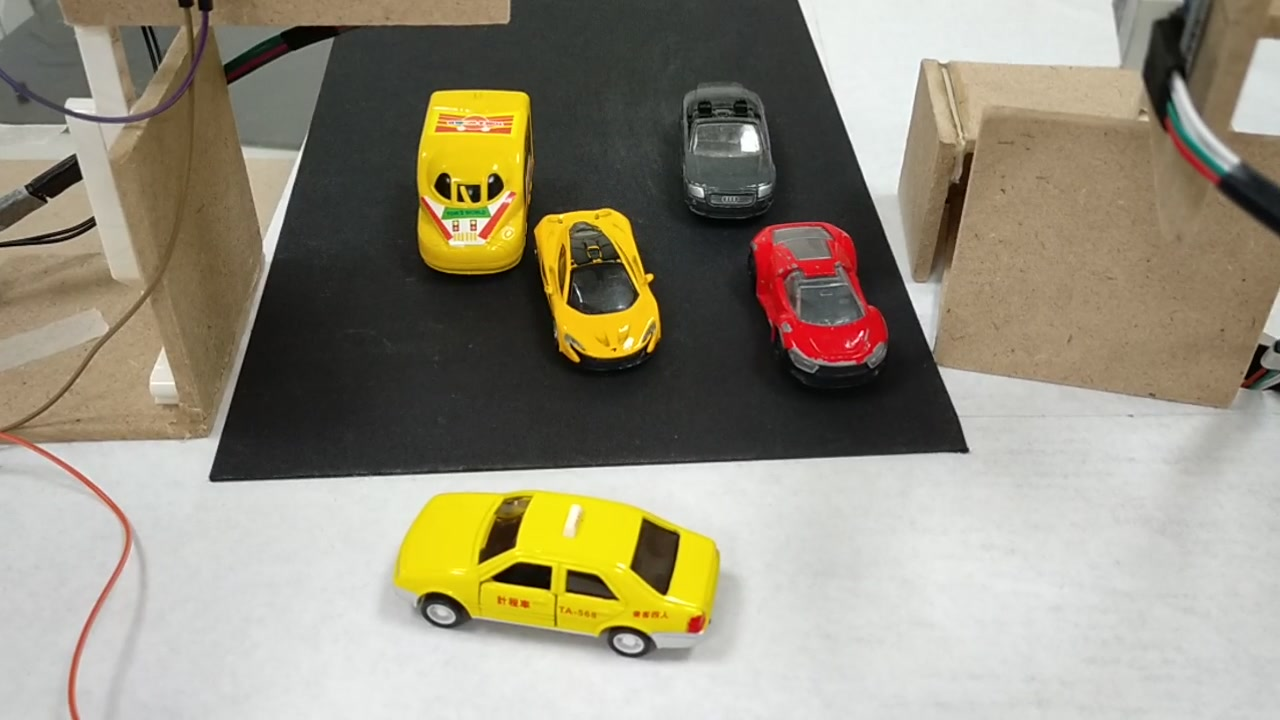car: (389, 490, 723, 666), (750, 227, 893, 382), (530, 210, 666, 371), (674, 86, 775, 217)
